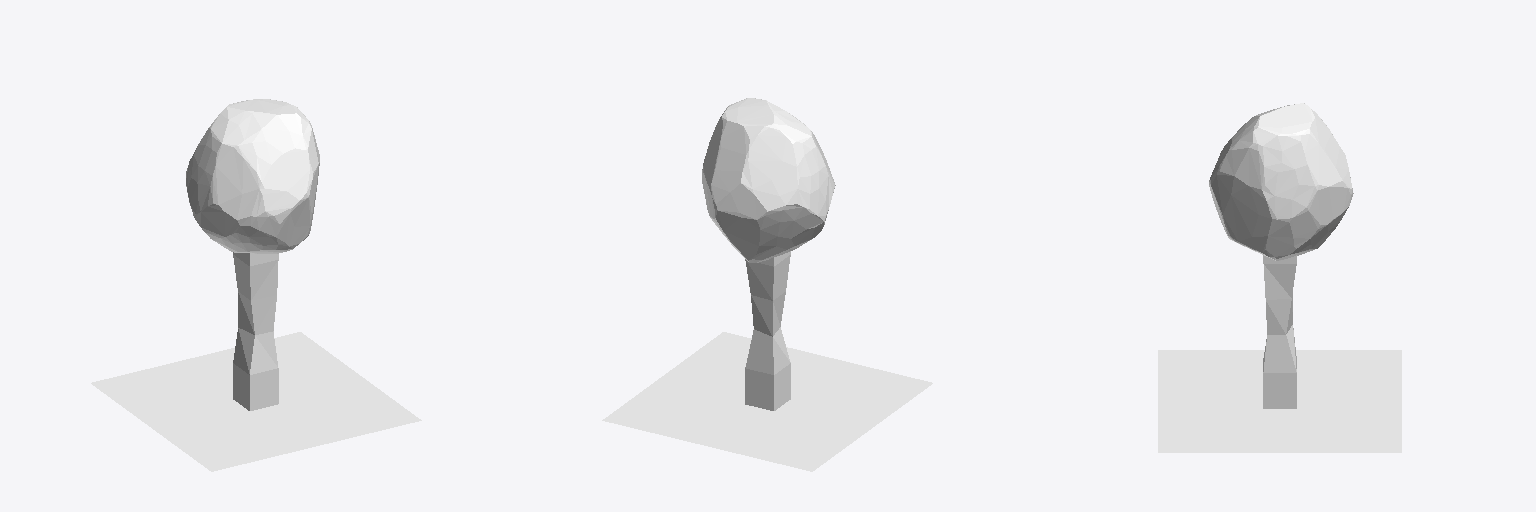
Rendered from tree3.obj.
3 views of the same model, side by side, from view 1: azimuth 30°, elevation 25°; view 2: azimuth 150°, elevation 25°; view 3: azimuth 270°, elevation 25° (orthographic).
Visible parts, largest first — view 1: tree3; view 2: tree3; view 3: tree3.
Part boxes in pixels (left/top/right/bottom): tree3: left=91, top=99, right=421, bottom=471; tree3: left=602, top=98, right=932, bottom=471; tree3: left=1158, top=103, right=1401, bottom=452.
Size of the model in its own units: 7.5 by 9.93 by 7.5.